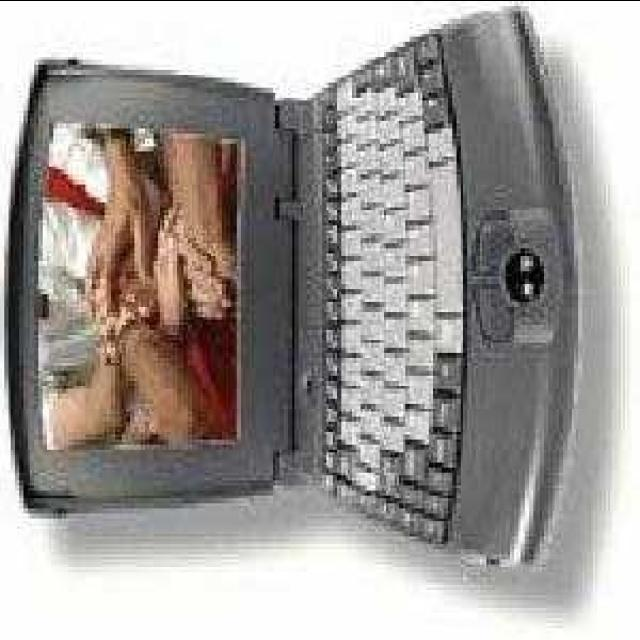laptop: (30, 68, 541, 530)
